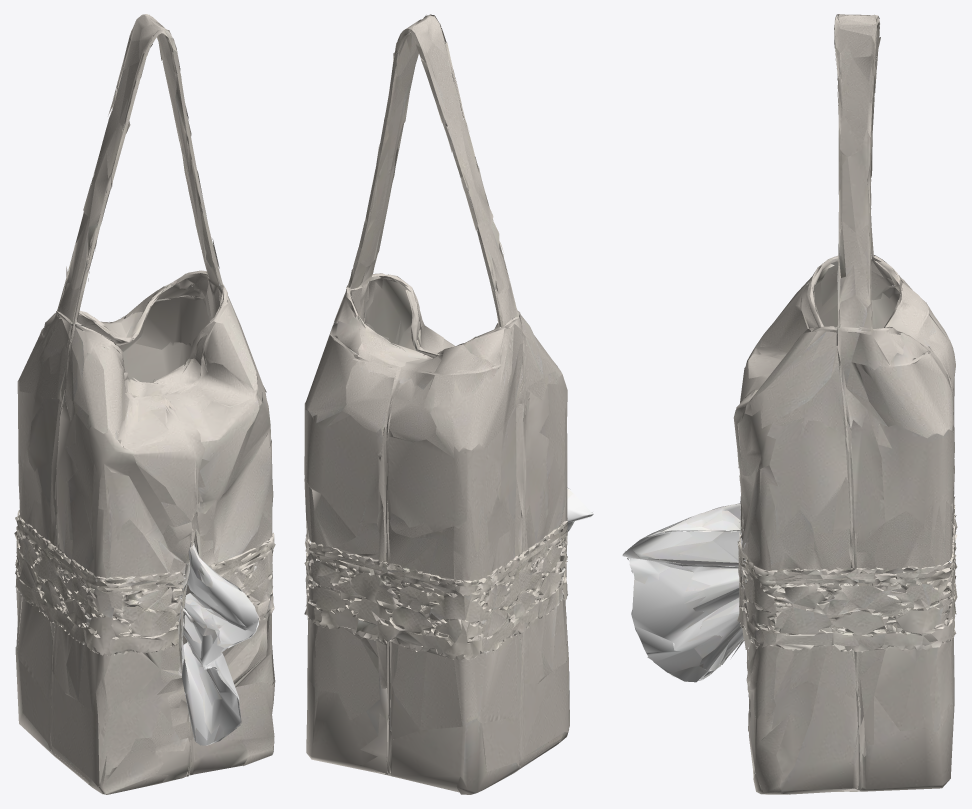
Rendered from hanging-tissue-case.glb.
3 renders of one model, left to right at view 1: azimuth 30°, elevation 25°; view 2: azimuth 150°, elevation 25°; view 3: azimuth 270°, elevation 25°, orthographic. The views are drawn at different scales.
Parts seen in each view (by area): view 1: Mesh_0; view 2: Mesh_0; view 3: Mesh_0.
Part boxes in pixels (x1,y1,x2,y2): Mesh_0: [14, 14, 275, 794]; Mesh_0: [304, 14, 593, 794]; Mesh_0: [622, 14, 957, 794].
Size of the model in its own units: 0.5184 by 1.91 by 0.7744.
Materials: 1 (1 with a texture image).
